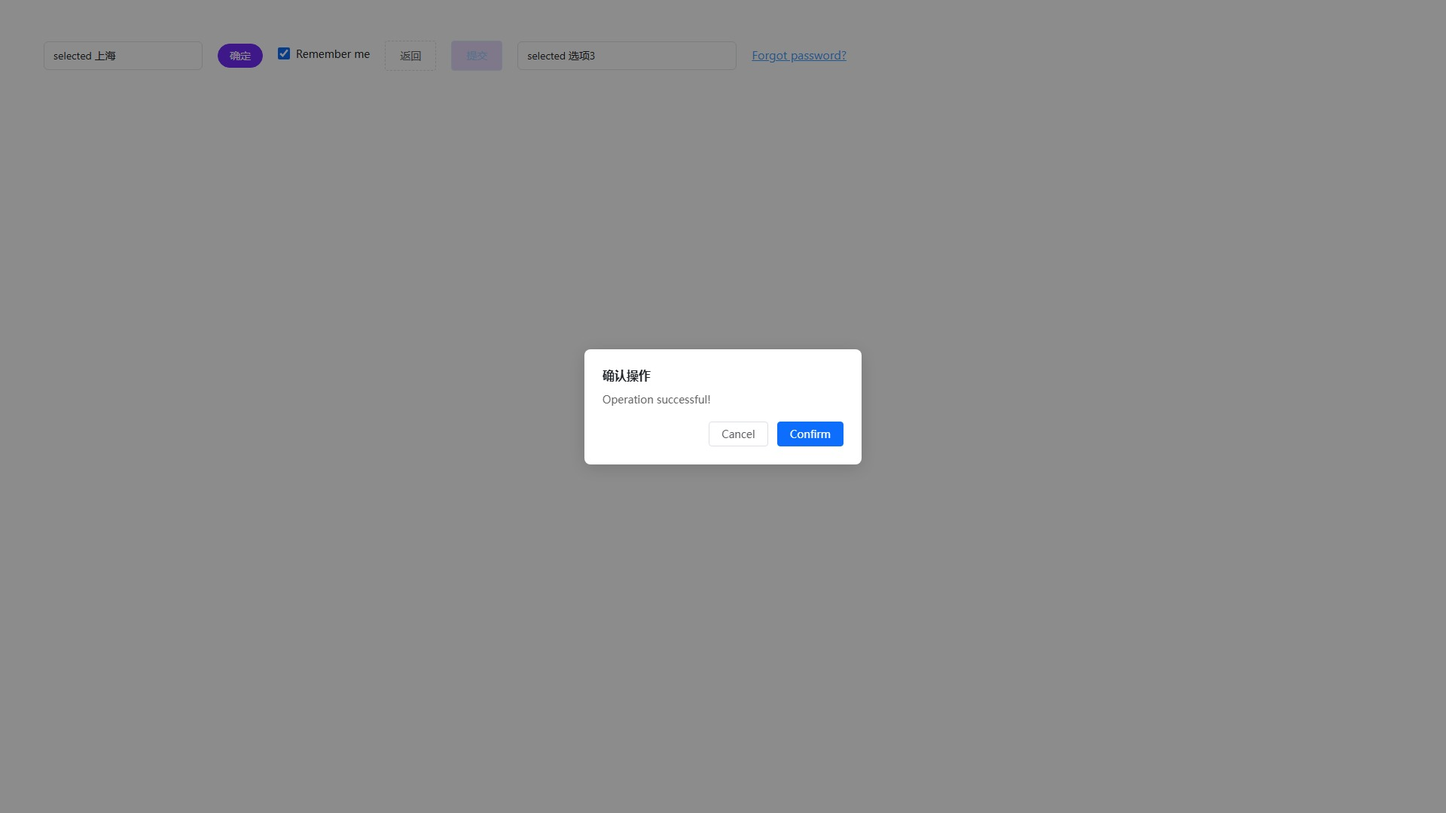button: (777, 421, 844, 446), (451, 41, 503, 71), (385, 41, 436, 71), (709, 421, 768, 446), (218, 44, 263, 68)
checkbox: (278, 47, 290, 59)
icon: (296, 46, 370, 61)
link: (752, 47, 846, 62)
modal: (0, 0, 1446, 813)
radio: (278, 46, 370, 61)
select: (518, 41, 737, 70), (44, 41, 203, 70)
